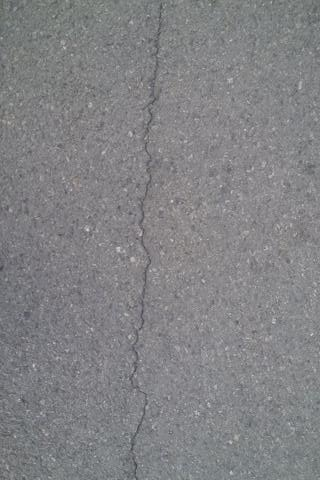A: (126, 3, 167, 476)
